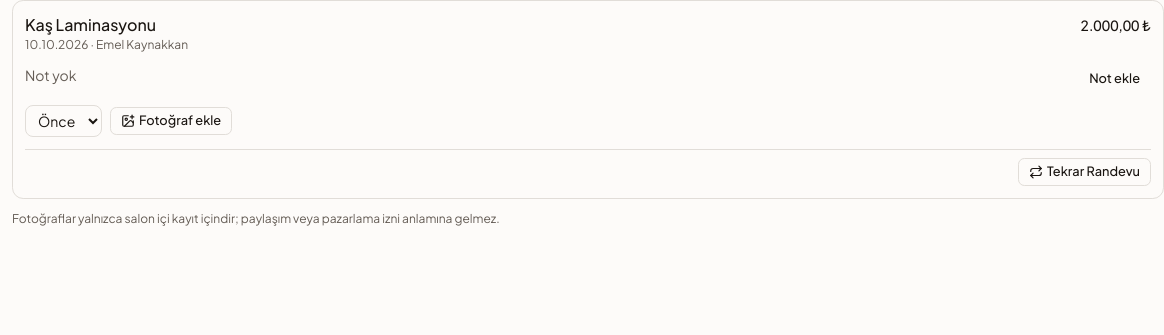
it: history cards › says plainly that photos are internal documentation, not sharing or marketing consent; adds no health wording
Expected: the list item with test id "treatment-card" is shown, left=12, top=0, right=1163, bottom=199
Click the button "Not ekle". click: (1115, 79)
box: left=1078, top=65, right=1151, bottom=93
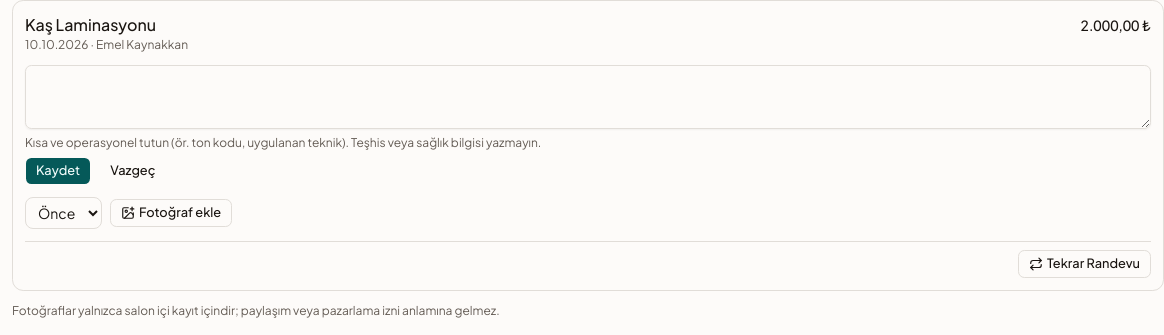
Now the text "Teşhis veya sağlık bilgisi yazmayın" is shown, box left=25, top=135, right=541, bottom=150
